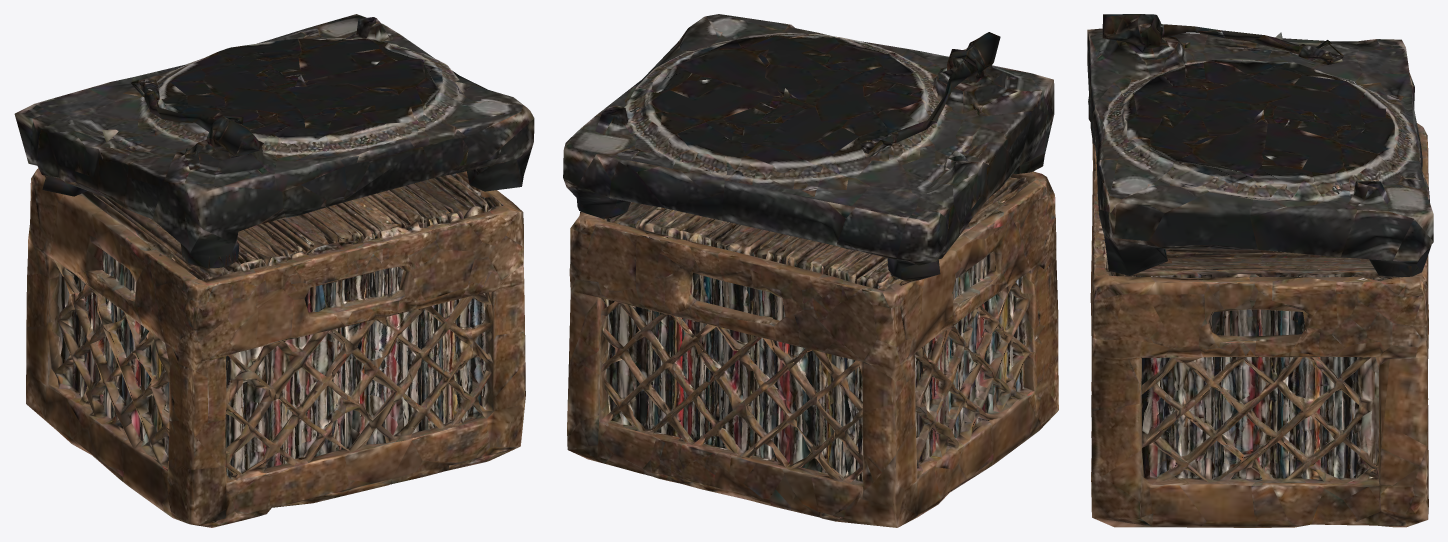
File: mobile.glb
The picture shows the model from 3 angles, left to right: view 1: azimuth 30°, elevation 25°; view 2: azimuth 150°, elevation 25°; view 3: azimuth 270°, elevation 25°; orthographic projection.
Parts seen in each view (by area): view 1: d-turntablecrate; view 2: d-turntablecrate; view 3: d-turntablecrate.
Boxes of the visible parts, bbox=[...] form: d-turntablecrate: bbox=[14, 14, 534, 527]; d-turntablecrate: bbox=[563, 14, 1058, 527]; d-turntablecrate: bbox=[1087, 14, 1433, 527].
Size of the model in its own units: 0.4996 by 0.4846 by 0.3976.
Materials: 1 (1 with a texture image).
